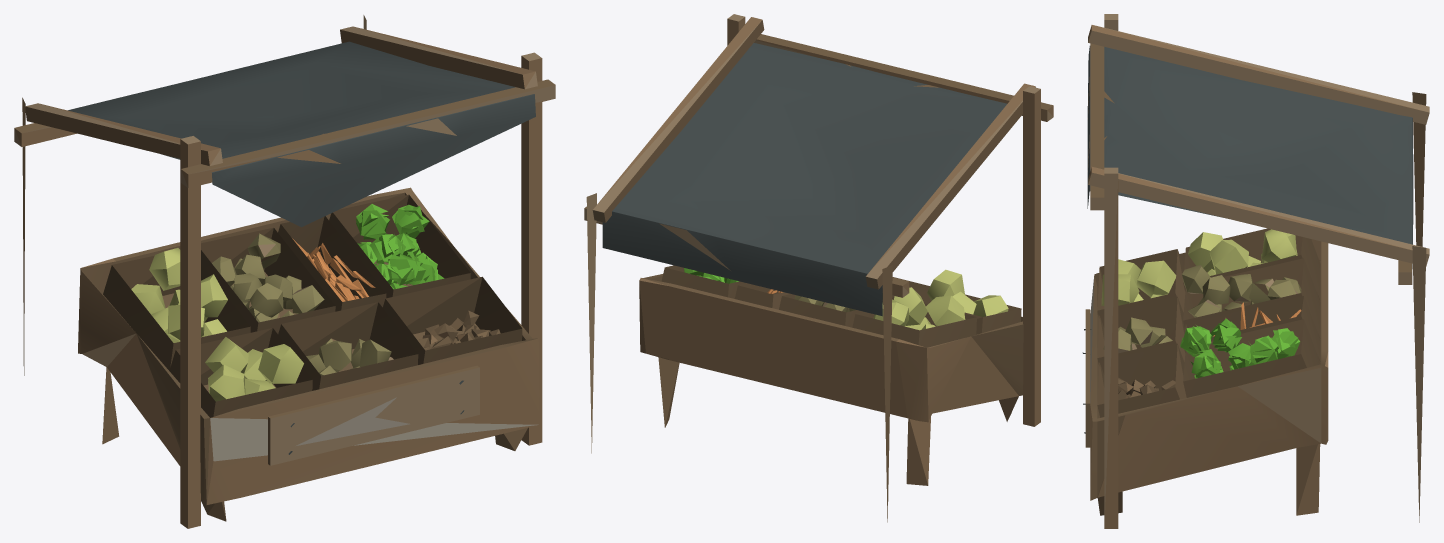
File: market-stall.glb
3 renders of one model, left to right at view 1: azimuth 30°, elevation 25°; view 2: azimuth 150°, elevation 25°; view 3: azimuth 270°, elevation 25°, orthographic. The views are drawn at different scales.
Parts seen in each view (by area): view 1: c3, c0, c1, c5, c8, c9, c2, c7, c4, c6; view 2: c3, c0, c5, c1, c8, c9; view 3: c3, c8, c0, c1, c5, c9, c2, c4.
Boxes of the visible parts, left/top/right/bottom form: c3: left=68, top=41, right=535, bottom=454; c0: left=14, top=27, right=550, bottom=528; c1: left=103, top=193, right=537, bottom=500; c5: left=15, top=29, right=555, bottom=519; c8: left=14, top=15, right=555, bottom=465; c9: left=131, top=248, right=303, bottom=401; c2: left=212, top=233, right=391, bottom=375; c7: left=210, top=397, right=538, bottom=461; c4: left=355, top=204, right=444, bottom=289; c6: left=292, top=238, right=375, bottom=301; c3: left=602, top=43, right=1007, bottom=316; c0: left=594, top=17, right=1053, bottom=485; c5: left=584, top=20, right=1053, bottom=522; c1: left=650, top=265, right=1023, bottom=395; c8: left=584, top=14, right=1053, bottom=453; c9: left=873, top=269, right=1008, bottom=330; c3: left=1082, top=46, right=1413, bottom=433; c8: left=1087, top=14, right=1429, bottom=526; c0: left=1087, top=25, right=1419, bottom=528; c1: left=1090, top=237, right=1321, bottom=421; c5: left=1085, top=43, right=1426, bottom=515; c9: left=1101, top=229, right=1297, bottom=305; c2: left=1103, top=264, right=1301, bottom=350; c4: left=1180, top=318, right=1300, bottom=378.
Size of the model in its own units: 2.7 by 2.7 by 2.39.
